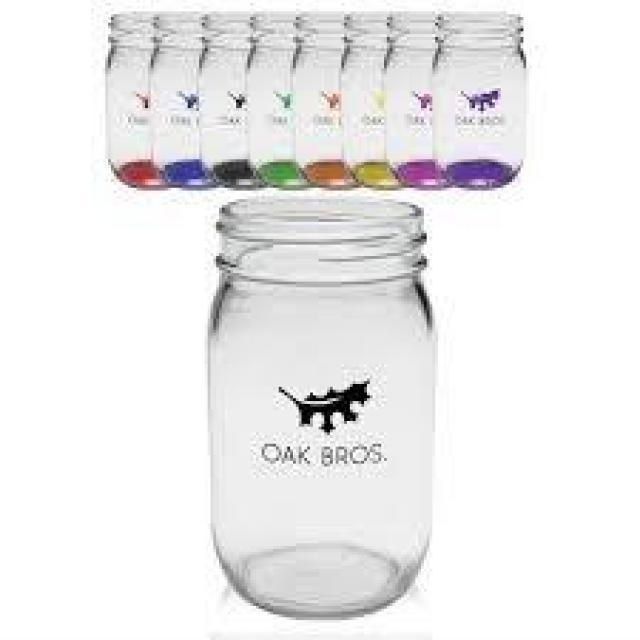glass: (196, 194, 447, 620), (429, 12, 526, 190)
